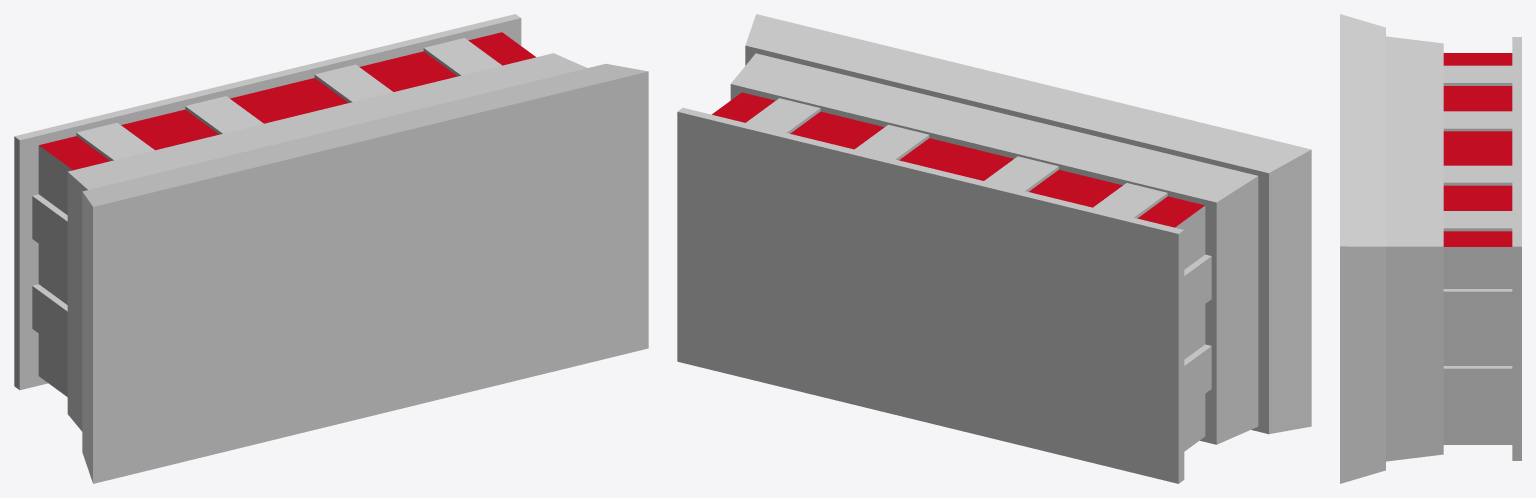
The model's file is Altar.fbx.
3 views of the same model, side by side, from view 1: azimuth 30°, elevation 25°; view 2: azimuth 150°, elevation 25°; view 3: azimuth 270°, elevation 25° (orthographic). The views are drawn at different scales.
Parts seen in each view (by area): view 1: Cube.006; view 2: Cube.006; view 3: Cube.006.
Boxes of the visible parts, x1,y1,x2,y2 form: Cube.006: (14, 14, 648, 483); Cube.006: (677, 14, 1311, 483); Cube.006: (1340, 14, 1521, 483).
Size of the model in its own units: 2.38 by 1.13 by 0.7857.
